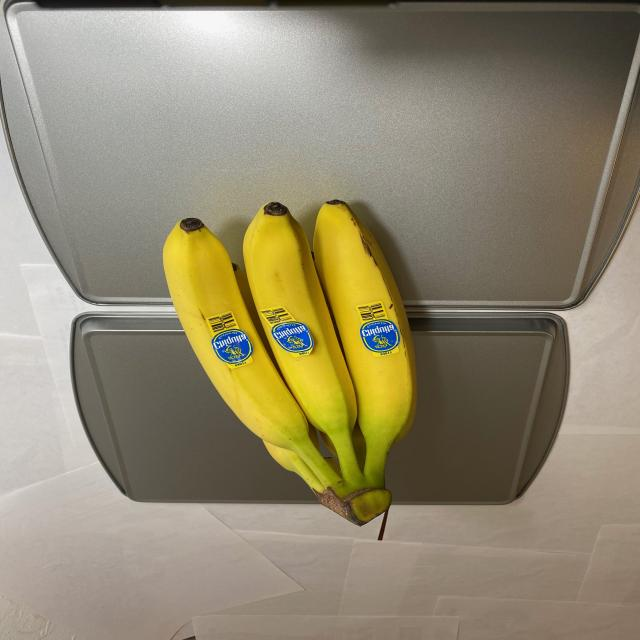banana: (158, 183, 422, 524)
